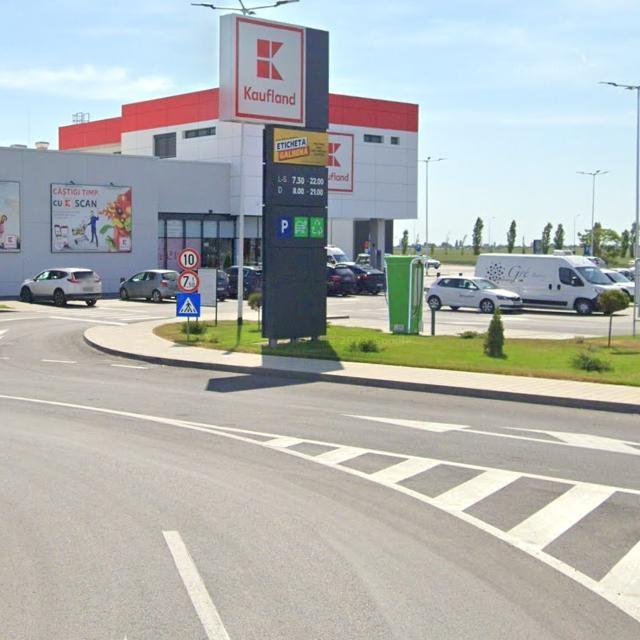forb_speed_over_10: (179, 248, 200, 271)
info_crosswalk: (176, 292, 201, 317)
